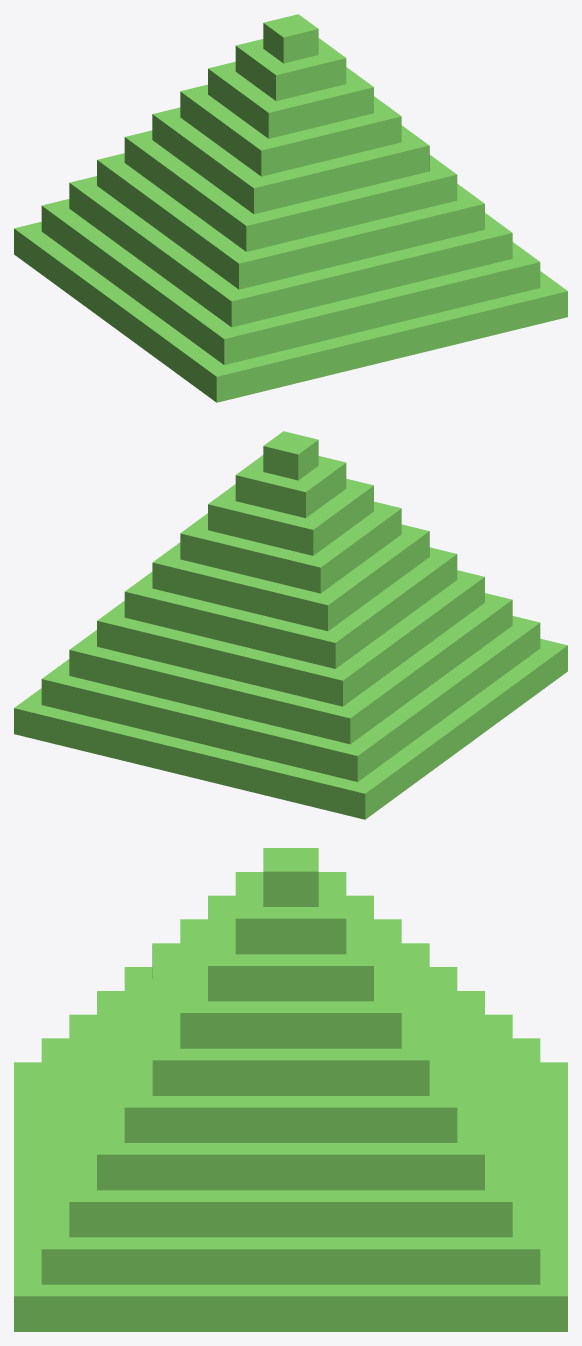
3 views of the same model, one above another, from view 1: azimuth 30°, elevation 25°; view 2: azimuth 150°, elevation 25°; view 3: azimuth 270°, elevation 25° (orthographic). The views are drawn at different scales.
Parts seen in each view (by area): view 1: Pyramid; view 2: Pyramid; view 3: Pyramid.
Part boxes in pixels (box(x1,y1,x2,y2)): Pyramid: box(14, 14, 567, 402); Pyramid: box(14, 431, 567, 819); Pyramid: box(14, 848, 567, 1331).
Size of the model in its own units: 1.41 by 1 by 1.41.
